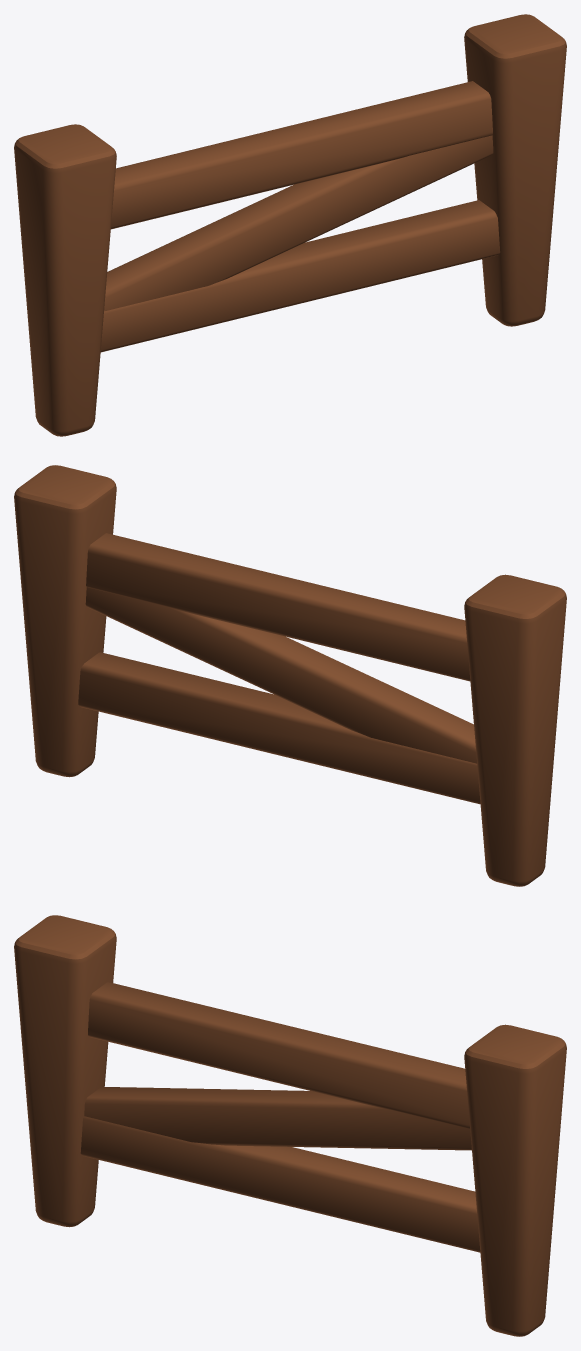
Rendered from farm_gate.glb.
3 views of the same model, one above another, from view 1: azimuth 30°, elevation 25°; view 2: azimuth 150°, elevation 25°; view 3: azimuth 330°, elevation 25° (orthographic).
Visible parts, largest first — view 1: farm_gate; view 2: farm_gate; view 3: farm_gate.
Boxes of the visible parts, bbox=[...] form: farm_gate: bbox=[14, 14, 566, 436]; farm_gate: bbox=[14, 465, 566, 886]; farm_gate: bbox=[14, 915, 566, 1336].
Bounding box in the file's own units: 1.67 × 0.8684 × 0.2306.
